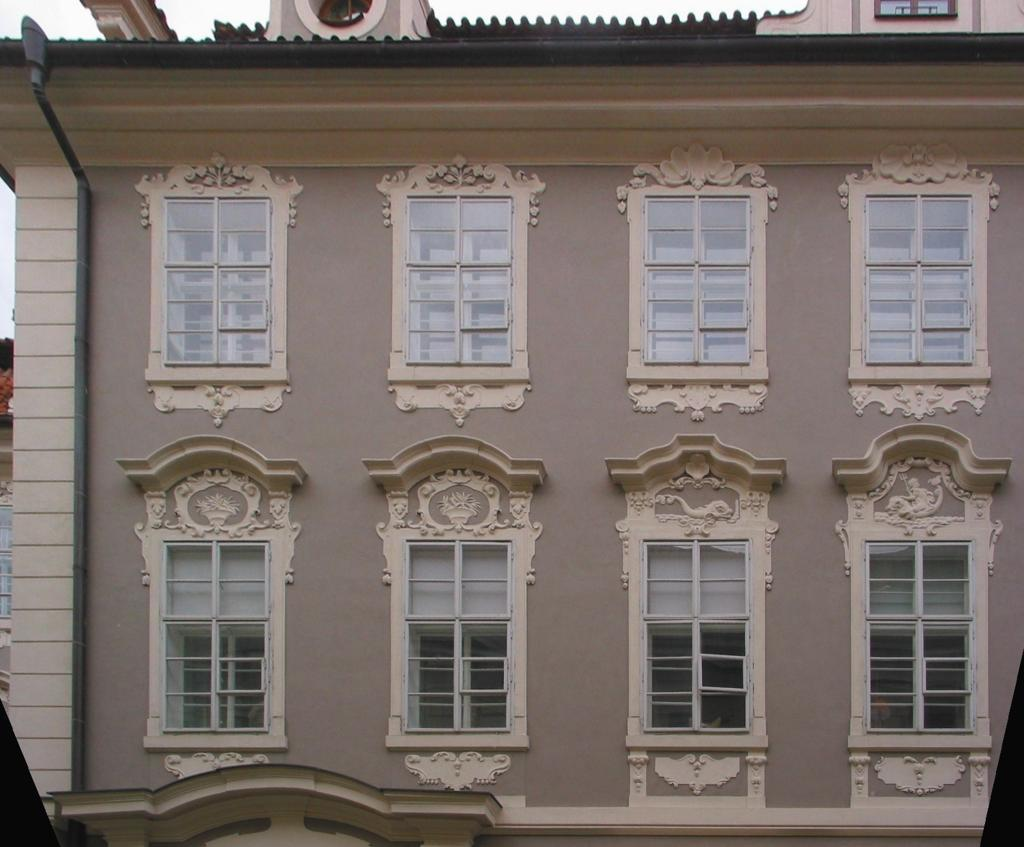window: (867, 541, 975, 734), (645, 541, 750, 733), (162, 542, 268, 732), (408, 540, 509, 733), (868, 196, 974, 365), (408, 198, 513, 367), (164, 200, 271, 365), (646, 196, 750, 363)
